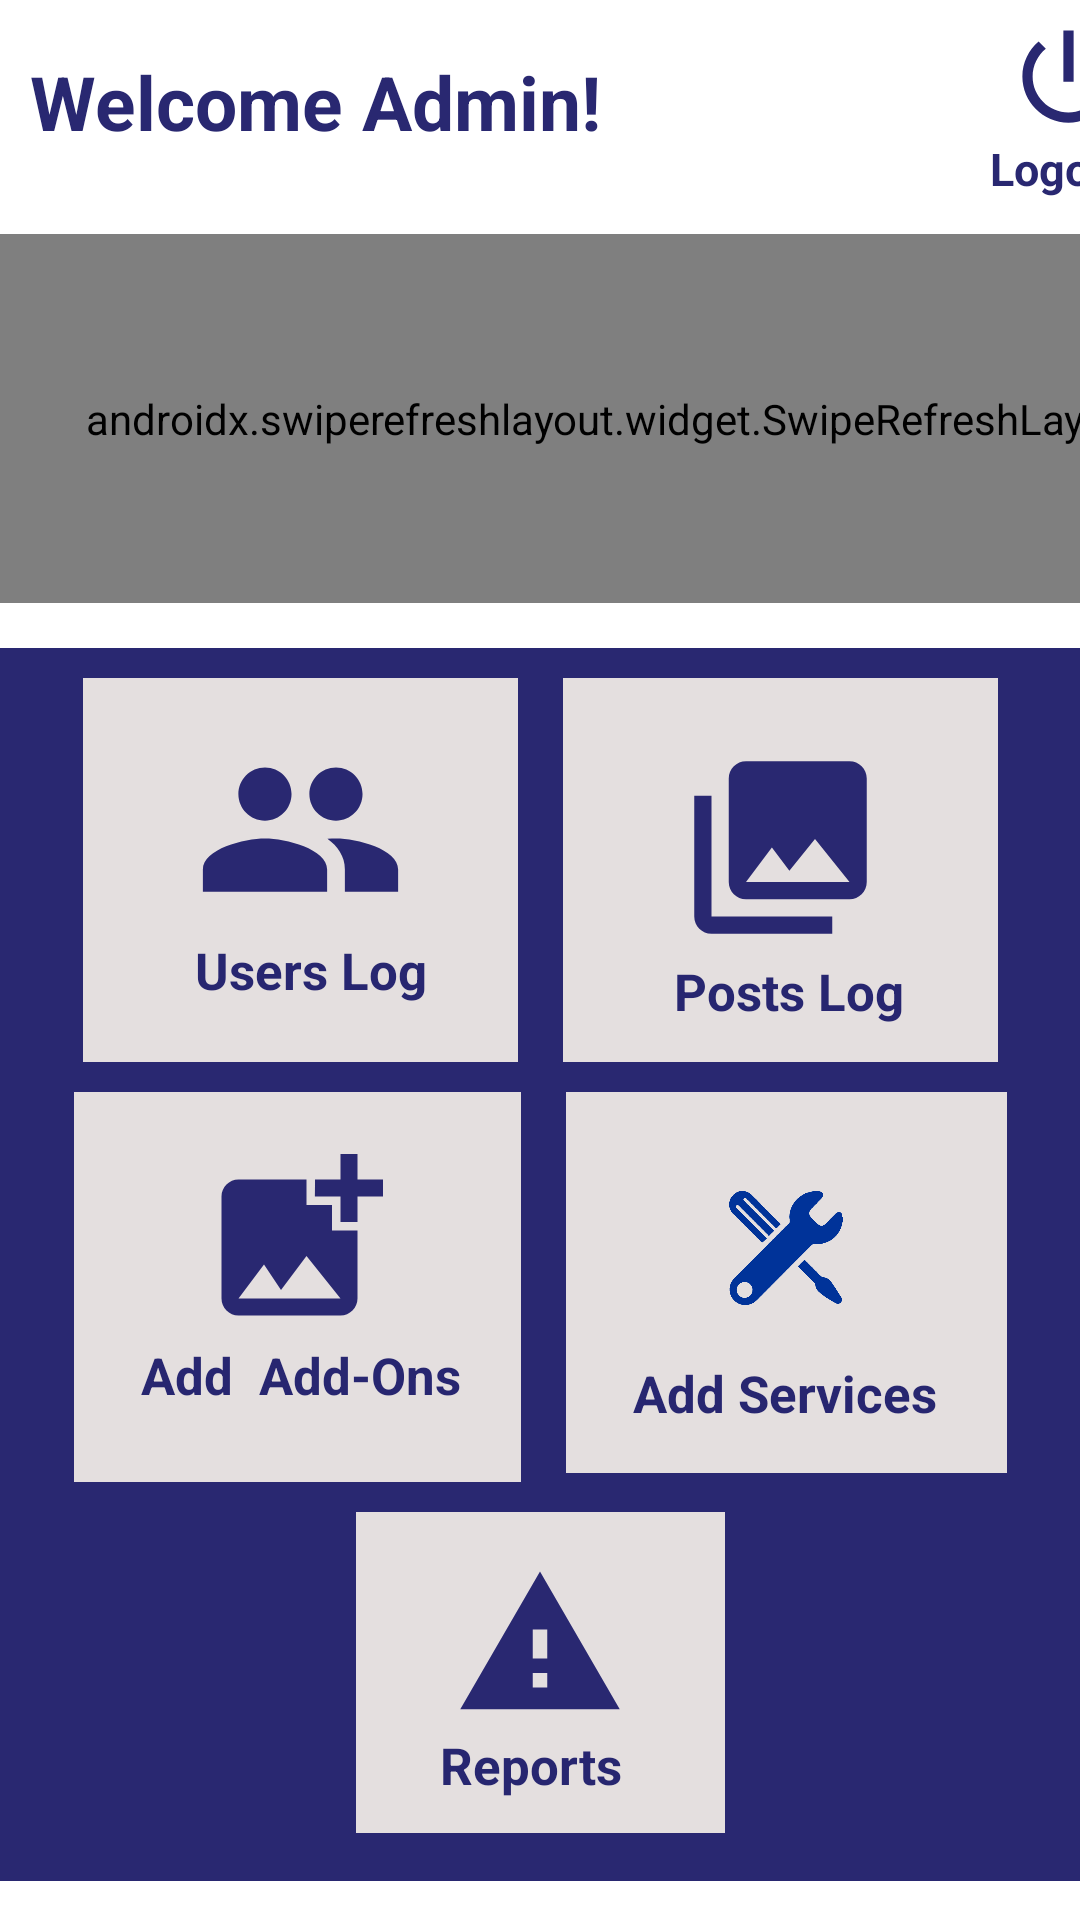

Icon bounding boxes for this 1080x1920 phone screenshot, format bbox=(x1, y1, x2, y2):
collections: bbox=(694, 761, 867, 934)
services admin: bbox=(729, 1191, 843, 1305)
warning: bbox=(460, 1572, 620, 1710)
